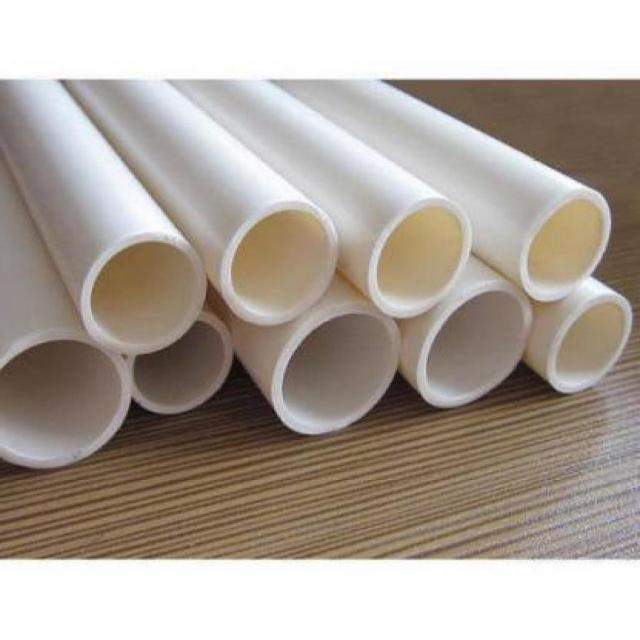pipe: (0, 328, 131, 468), (273, 301, 402, 435), (80, 232, 204, 354), (219, 200, 338, 325), (416, 283, 533, 408), (368, 198, 470, 317), (127, 311, 234, 415), (519, 187, 610, 301), (547, 293, 632, 392)
